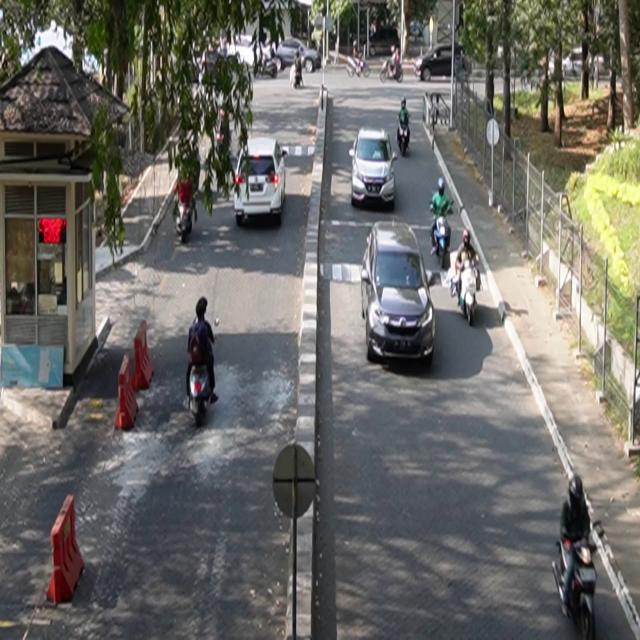car: (361, 220, 438, 367), (234, 138, 289, 228), (349, 128, 399, 211), (415, 43, 470, 83)
